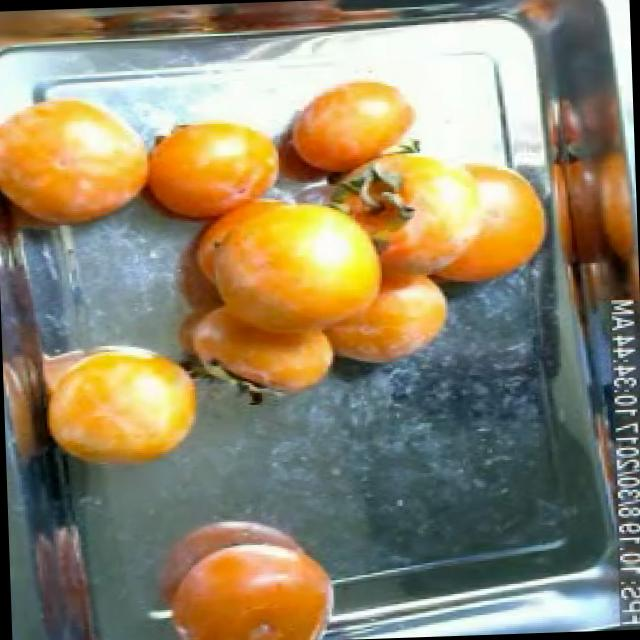Fruit: (360, 128, 560, 306), (15, 336, 218, 486), (138, 499, 349, 640), (0, 79, 168, 249), (286, 243, 467, 383), (122, 101, 295, 245), (260, 64, 434, 198)
